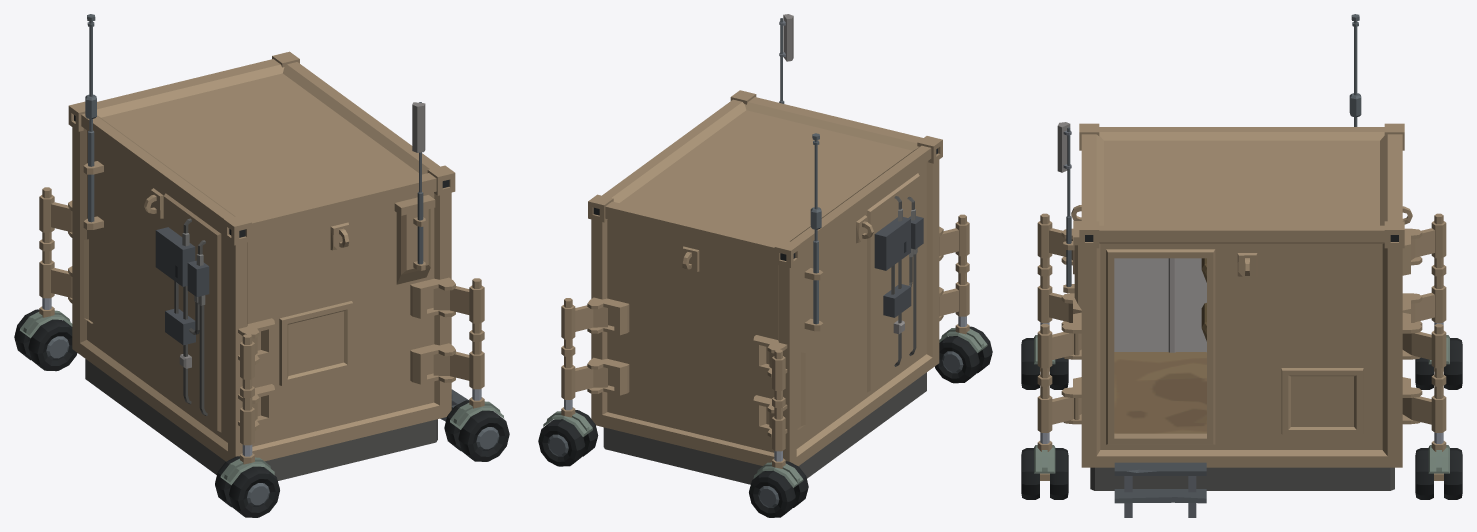
The model's file is SM_Prop_Drone_Control_Room_02.glb.
3 views of the same model, side by side, from view 1: azimuth 30°, elevation 25°; view 2: azimuth 150°, elevation 25°; view 3: azimuth 270°, elevation 25° (orthographic). The views are drawn at different scales.
Visible parts, largest first — view 1: SM_Prop_Drone_Control_Room_02; view 2: SM_Prop_Drone_Control_Room_02; view 3: SM_Prop_Drone_Control_Room_02.
Part boxes in pixels (box(x1,y1,x2,y2)): SM_Prop_Drone_Control_Room_02: box(14, 14, 509, 517); SM_Prop_Drone_Control_Room_02: box(538, 14, 992, 517); SM_Prop_Drone_Control_Room_02: box(1021, 14, 1462, 517).
Bounding box in the file's own units: 3.32 × 4.07 × 4.38.
Materials: 1 (1 with a texture image).
